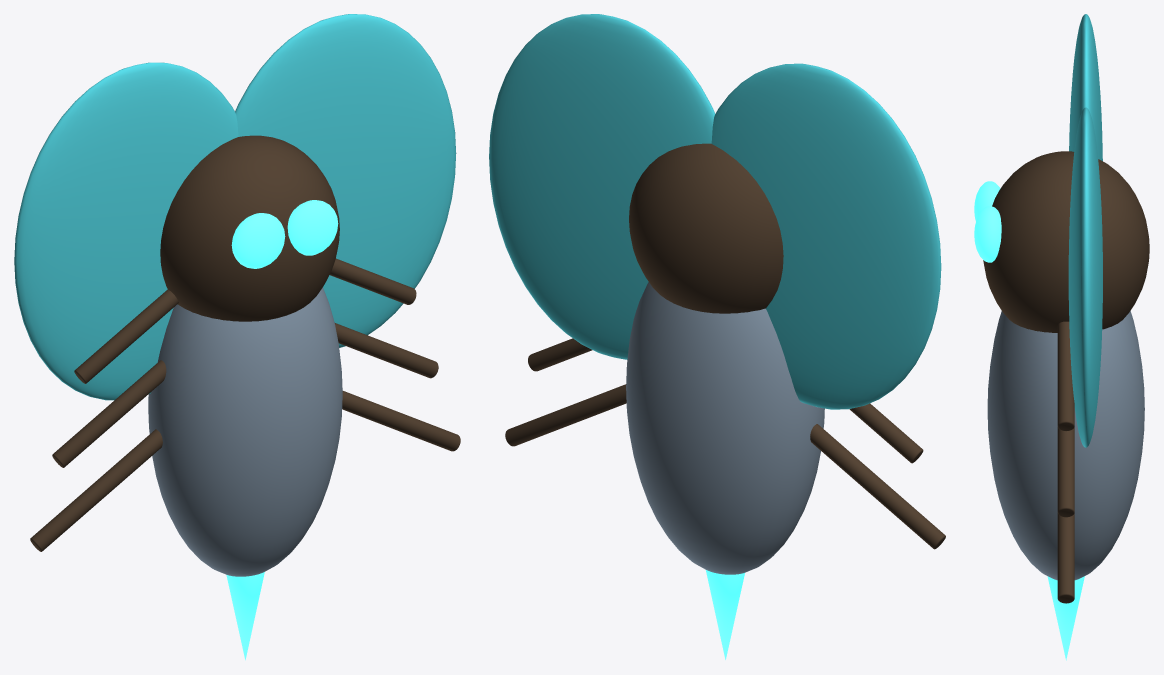
Rendered from crawler_v5.glb.
The picture shows the model from 3 angles, left to right: view 1: azimuth 30°, elevation 25°; view 2: azimuth 150°, elevation 25°; view 3: azimuth 270°, elevation 25°; orthographic projection. The views are drawn at different scales.
Parts seen in each view (by area): view 1: HORNET_WING_ACCENT, HORNET_ABDOMEN_PRIMARY, HORNET_WING_ACCENT.001, HORNET_THORAX_SECONDARY, HORNET_LEG_SECONDARY.002, HORNET_LEG_SECONDARY.001, EYE_EMISSIVE, HORNET_LEG_SECONDARY, HORNET_LEG_SECONDARY.005, EYE_EMISSIVE.001, HORNET_LEG_SECONDARY.004, HORNET_STINGER_EMISSIVE (+1 smaller); view 2: HORNET_WING_ACCENT, HORNET_WING_ACCENT.001, HORNET_ABDOMEN_PRIMARY, HORNET_THORAX_SECONDARY, HORNET_LEG_SECONDARY.002, HORNET_LEG_SECONDARY.005, HORNET_STINGER_EMISSIVE, HORNET_LEG_SECONDARY.001, HORNET_LEG_SECONDARY.004; view 3: HORNET_ABDOMEN_PRIMARY, HORNET_THORAX_SECONDARY, HORNET_WING_ACCENT.001, HORNET_WING_ACCENT, HORNET_LEG_SECONDARY.003, HORNET_LEG_SECONDARY.005, HORNET_LEG_SECONDARY.004, EYE_EMISSIVE.001, HORNET_STINGER_EMISSIVE, EYE_EMISSIVE.
Boxes of the visible parts, box(x1,y1,x2,y2) form: HORNET_WING_ACCENT: box(14, 62, 238, 400); HORNET_ABDOMEN_PRIMARY: box(148, 287, 342, 576); HORNET_WING_ACCENT.001: box(235, 14, 456, 347); HORNET_THORAX_SECONDARY: box(160, 135, 339, 321); HORNET_LEG_SECONDARY.002: box(30, 429, 162, 551); HORNET_LEG_SECONDARY.001: box(52, 360, 166, 467); EYE_EMISSIVE: box(231, 213, 285, 268); HORNET_LEG_SECONDARY: box(74, 289, 178, 383); HORNET_LEG_SECONDARY.005: box(342, 391, 460, 451); EYE_EMISSIVE.001: box(287, 200, 338, 255); HORNET_LEG_SECONDARY.004: box(335, 323, 438, 378); HORNET_STINGER_EMISSIVE: box(226, 572, 264, 660); HORNET_WING_ACCENT: box(711, 63, 941, 409); HORNET_WING_ACCENT.001: box(489, 14, 715, 359); HORNET_ABDOMEN_PRIMARY: box(626, 282, 824, 574); HORNET_THORAX_SECONDARY: box(629, 143, 783, 313); HORNET_LEG_SECONDARY.002: box(810, 424, 945, 549); HORNET_LEG_SECONDARY.005: box(505, 384, 626, 446); HORNET_STINGER_EMISSIVE: box(706, 570, 744, 659); HORNET_LEG_SECONDARY.001: box(849, 403, 923, 463); HORNET_LEG_SECONDARY.004: box(528, 338, 592, 371); HORNET_ABDOMEN_PRIMARY: box(987, 311, 1144, 580); HORNET_THORAX_SECONDARY: box(983, 151, 1149, 332); HORNET_WING_ACCENT.001: box(1068, 107, 1102, 447); HORNET_WING_ACCENT: box(1069, 14, 1102, 160); HORNET_LEG_SECONDARY.003: box(1057, 321, 1074, 431); HORNET_LEG_SECONDARY.005: box(1057, 513, 1074, 603); HORNET_LEG_SECONDARY.004: box(1057, 427, 1074, 517); EYE_EMISSIVE.001: box(974, 206, 1001, 262); HORNET_STINGER_EMISSIVE: box(1047, 576, 1084, 660); EYE_EMISSIVE: box(974, 181, 1000, 220).
Size of the model in its own units: 1.56 by 2.07 by 0.557.
